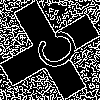C: (25, 25, 82, 79)
